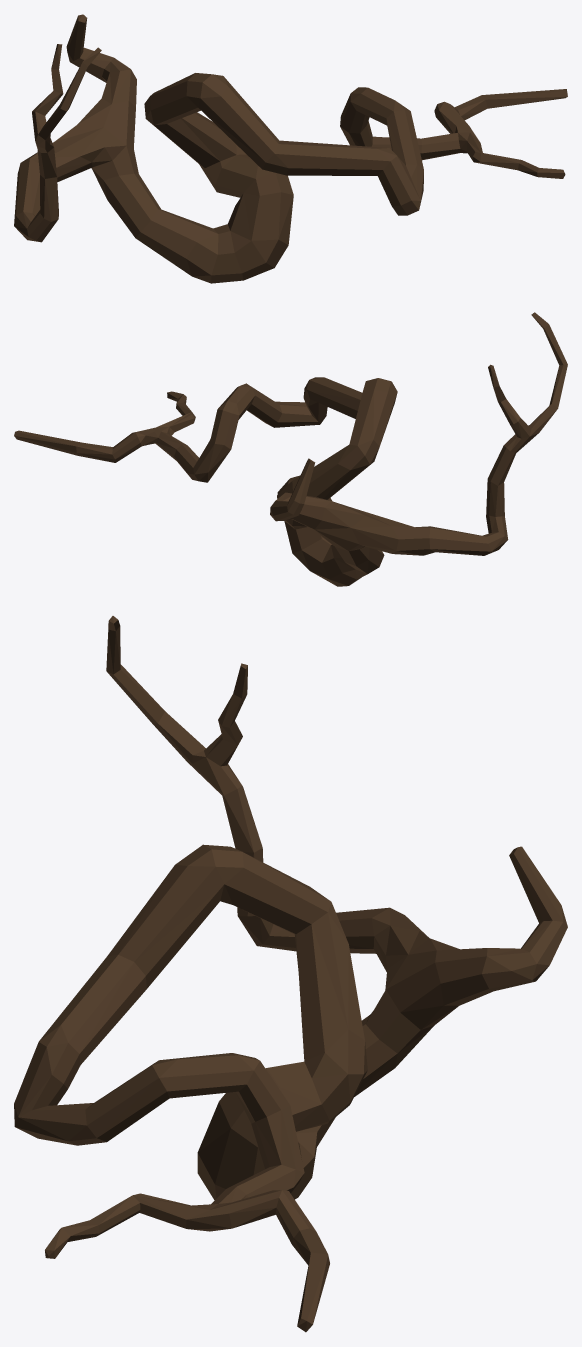
File: EM_Branch05b.fbx
The picture shows the model from 3 angles, top to bottom: view 1: azimuth 30°, elevation 25°; view 2: azimuth 150°, elevation 25°; view 3: azimuth 270°, elevation 25°; orthographic projection. The views are drawn at different scales.
Visible parts, largest first — view 1: EM_Branch05b_LOD0; view 2: EM_Branch05b_LOD0; view 3: EM_Branch05b_LOD0.
Part boxes in pixels (x1,y1,x2,y2): EM_Branch05b_LOD0: [14, 14, 567, 283]; EM_Branch05b_LOD0: [14, 312, 567, 586]; EM_Branch05b_LOD0: [14, 616, 567, 1332].
Size of what is drawn, in the model's own units: 6.12 by 3.19 by 3.46.
